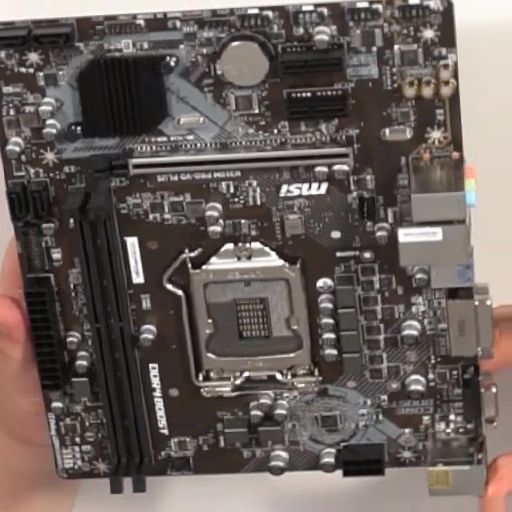CPU: (187, 242, 320, 392)
GPU: (90, 144, 355, 188)
MOTHERBOARD: (4, 1, 483, 481)
RAM: (63, 188, 150, 492)
